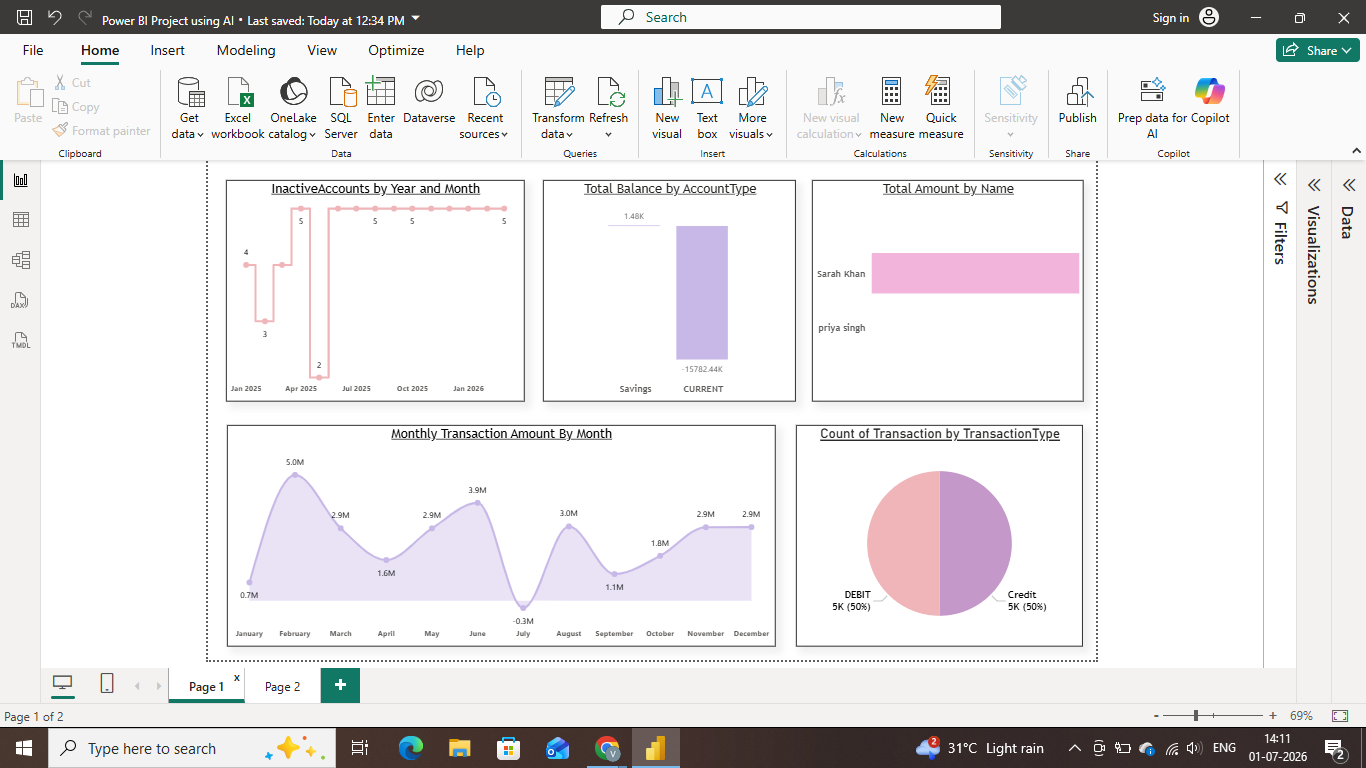

The page's visual inventory and layout, read from the dashboard file:
{"tool":"powerbi","page":{"name":"Page 1","canvas":[1280,720],"ordinal":0},"visuals":[{"type":"pieChart","fields":{"Category":["CombinedBankingDataset.TransactionType"],"Y":["Measure Table.Count of Transaction"]},"box":[846.6,381.3,413.2,319.2],"z":0},{"type":"areaChart","title":"Monthly Transaction Amount By Month","fields":{"Category":["CombinedBankingDataset.TransactionDate.Variation.Date Hierarchy.Month"],"Y":["Measure Table.Measure"]},"box":[26.9,381.3,789.5,319.2],"z":1000},{"type":"barChart","title":"Total Amount by Name","fields":{"Y":["Sum(CombinedBankingDataset.Amount)"],"Category":["CombinedBankingDataset.Name"]},"box":[869.8,28.2,390.9,318.7],"z":2000},{"type":"clusteredColumnChart","fields":{"Category":["CombinedBankingDataset.AccountType"],"Y":["Measure Table.Total Balance"]},"box":[482.4,28.2,364.5,318.7],"z":3000},{"type":"lineChart","fields":{"Y":["Measure Table.InactiveAccounts"],"Category":["CombinedBankingDataset.TransactionDate.Variation.Date Hierarchy.Year","CombinedBankingDataset.TransactionDate.Variation.Date Hierarchy.Month"]},"box":[26.4,28.2,429.6,318.7],"z":4000}]}

Visuals, with their boxes on the page's 1280x720 design canvas (x1, y1, x2, y2). These are canvas units, not pixel positions in the 1366x768 screenshot, which may show the page scaled, cropped or inside an application window:
pieChart - CombinedBankingDataset.TransactionType x Measure Table.Count of Transaction: region(847, 381, 1260, 700)
"Monthly Transaction Amount By Month" areaChart: region(27, 381, 816, 700)
"Total Amount by Name" barChart: region(870, 28, 1261, 347)
clusteredColumnChart - CombinedBankingDataset.AccountType x Measure Table.Total Balance: region(482, 28, 847, 347)
lineChart - Measure Table.InactiveAccounts x CombinedBankingDataset.TransactionDate.Variation.Date Hierarchy.Year: region(26, 28, 456, 347)
